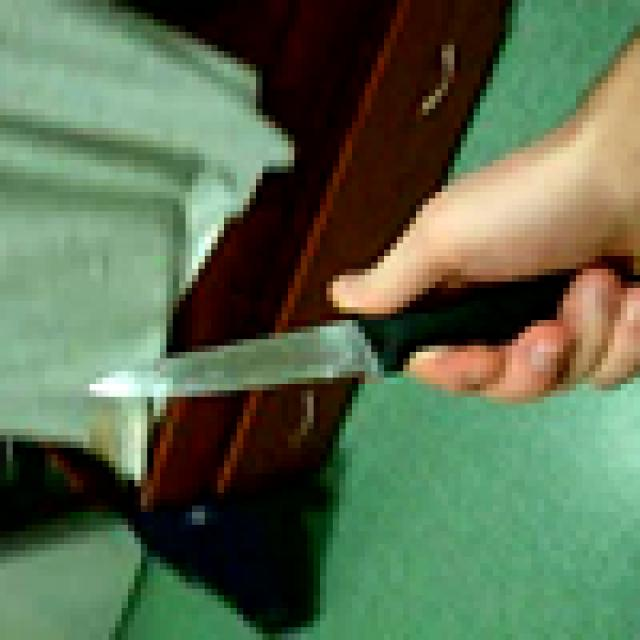Knife: (83, 237, 640, 422)
